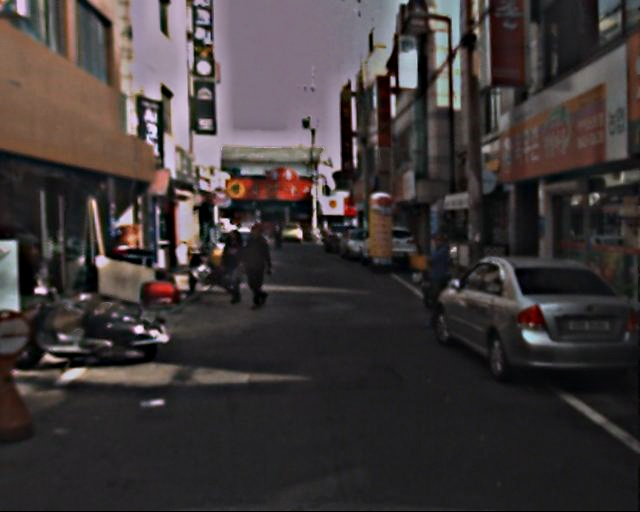person: (422, 228, 462, 333), (242, 217, 276, 313), (217, 224, 249, 303), (272, 222, 283, 247)
